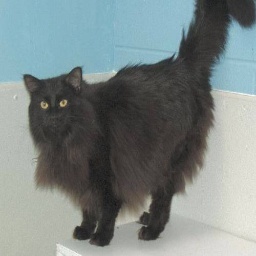cat: (18, 0, 239, 245)
